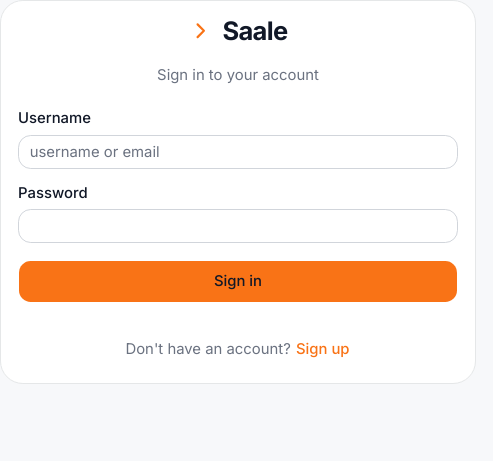
it: sign-in form › shows the server's error message and stays put
Type "ada.lovelace" into the field labelled "Username".
click(238, 152); type("ada.lovelace")  # box [18,135,458,169]
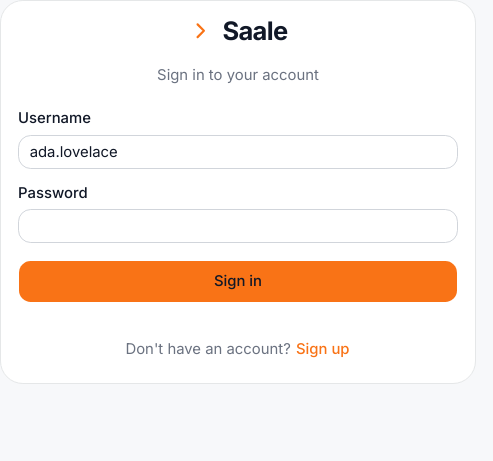
Type "correct horse" into the password field labelled "Password".
click(238, 226); type("correct horse")  # box [18,209,458,243]
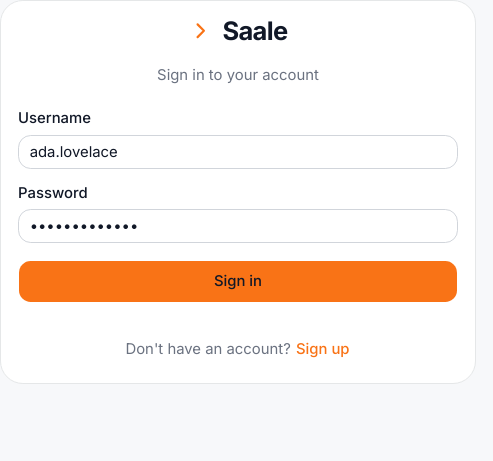
Click the button "Sign in".
click(238, 281)  # box [18,260,458,303]
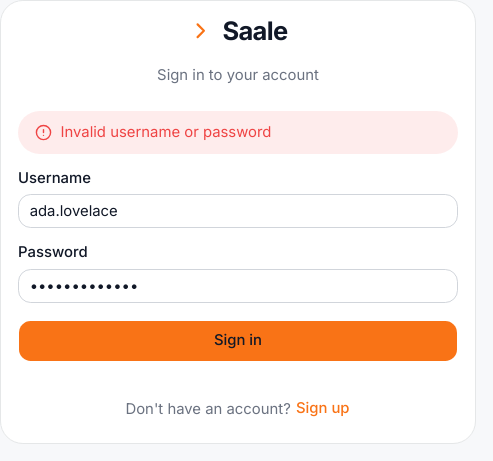
Expected: the text "Invalid username or password" is shown, [60,122,272,143]
